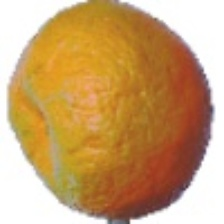tangerine: (39, 0, 191, 198)
